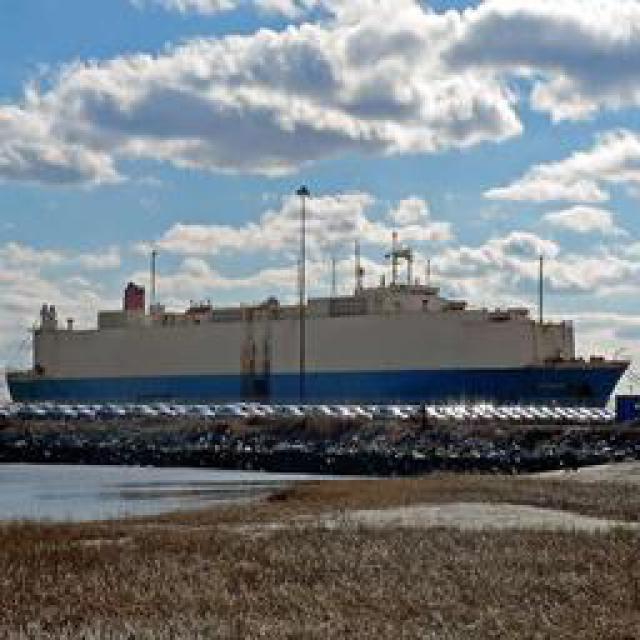Ship: (1, 284, 631, 417)
